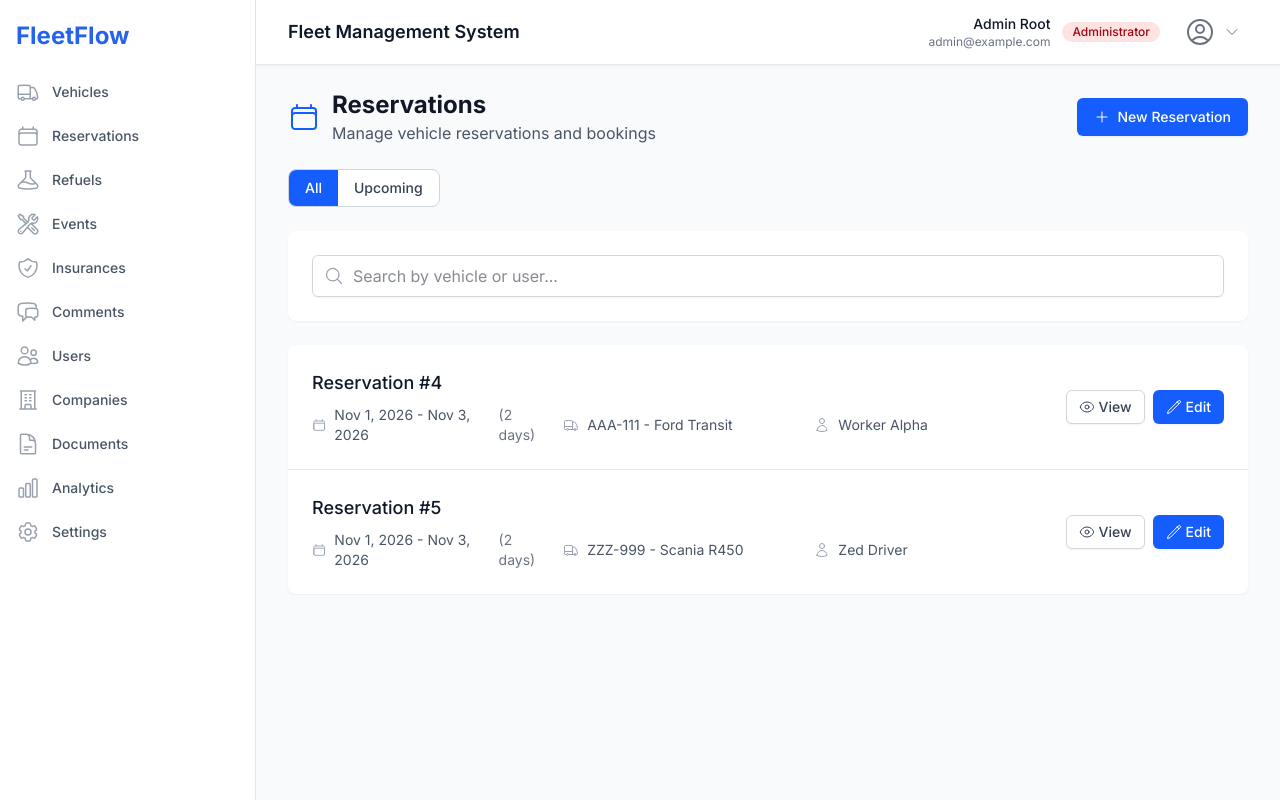
Test: reservations list › filters the loaded page by vehicle or user text
The width and height of the screenshot is (1280, 800).
Expected: the text "ZZZ-999 - Scania R450" is shown, [587,540,744,560]
Type "zed" into the field with placeholder "Search by vehicle or user..." at (768, 276), box [312,255,1224,297]
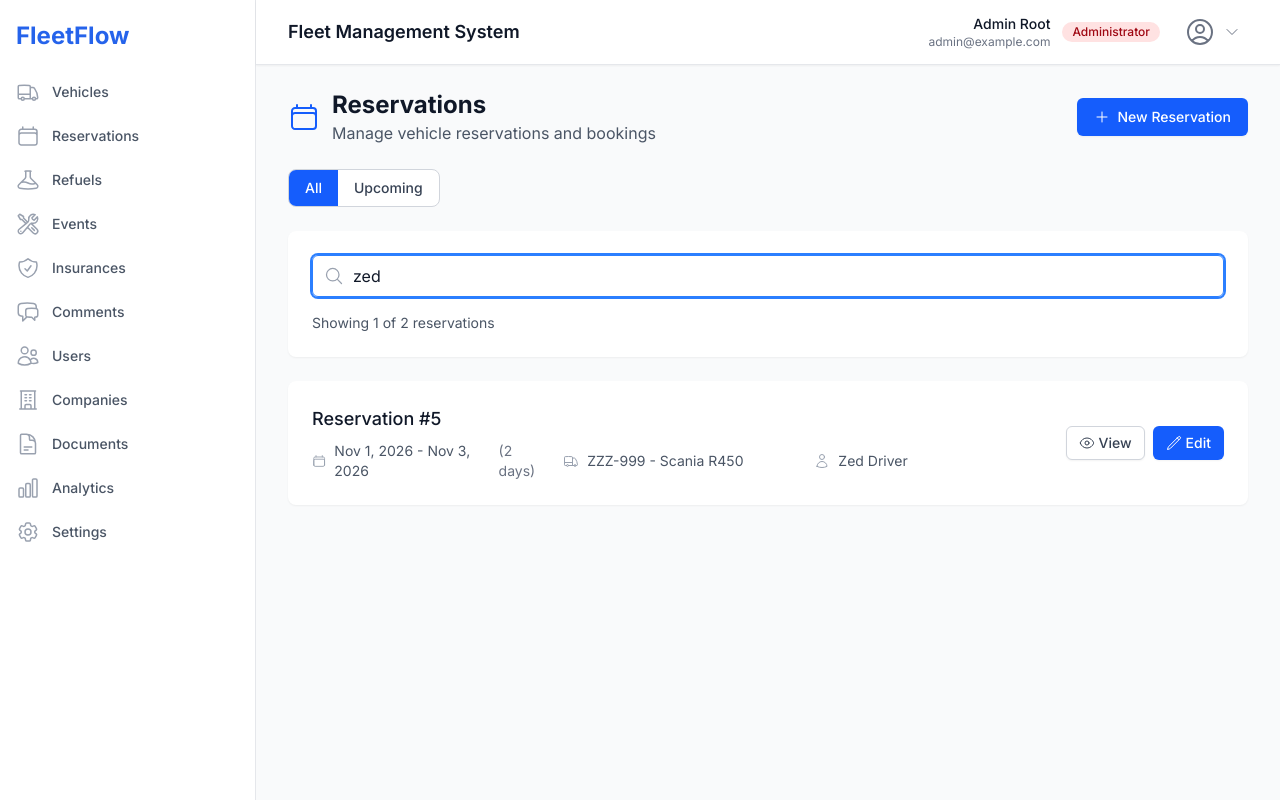
Expected: the text "ZZZ-999 - Scania R450" is shown, [587,451,744,471]
Now the text "AAA-111" is gone
